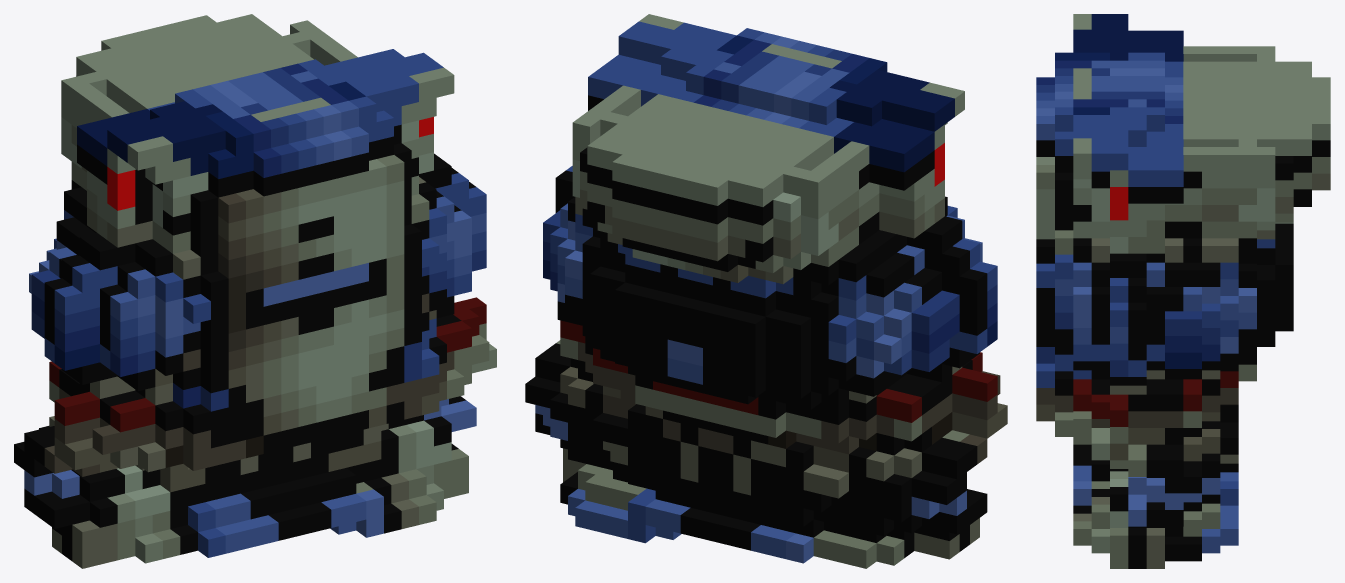
File: Icon_746_01.obj
The picture shows the model from 3 angles, left to right: view 1: azimuth 30°, elevation 25°; view 2: azimuth 150°, elevation 25°; view 3: azimuth 270°, elevation 25°; orthographic projection. The views are drawn at different scales.
Bounding box in the file's own units: 2.4 × 2.4 × 1.6.
1 material, 1 textured.
